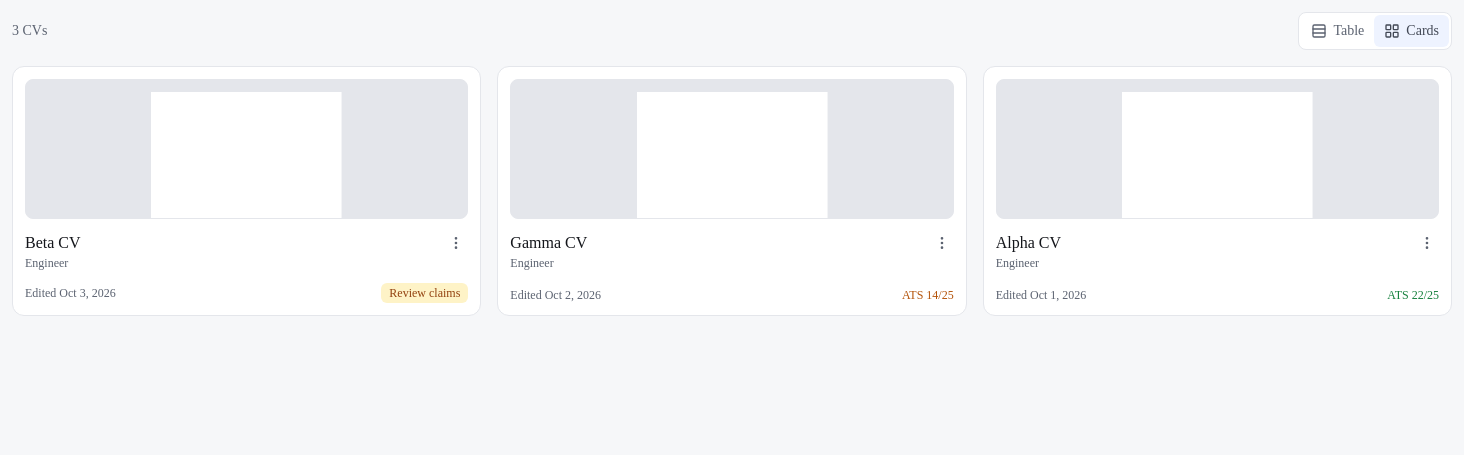
Scenario: CvLibrary › offers the same actions menu on cards
Click the button named "More actions for Gamma CV".
click(942, 243)  # box [926,227,958,259]
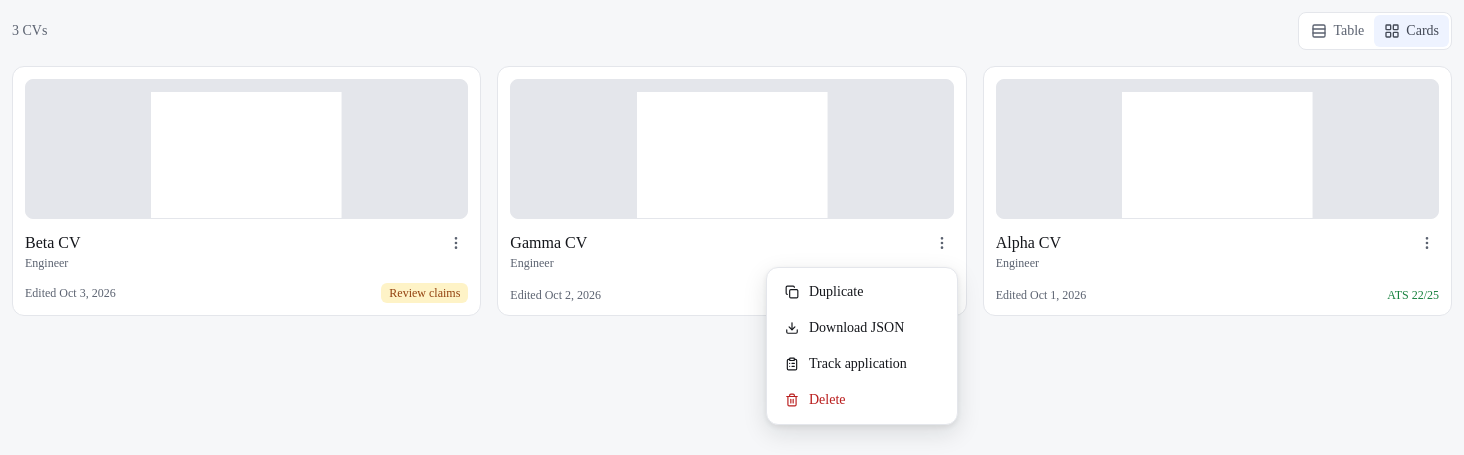
Click the menu item "Delete".
click(815, 400)  # box [785,392,846,407]
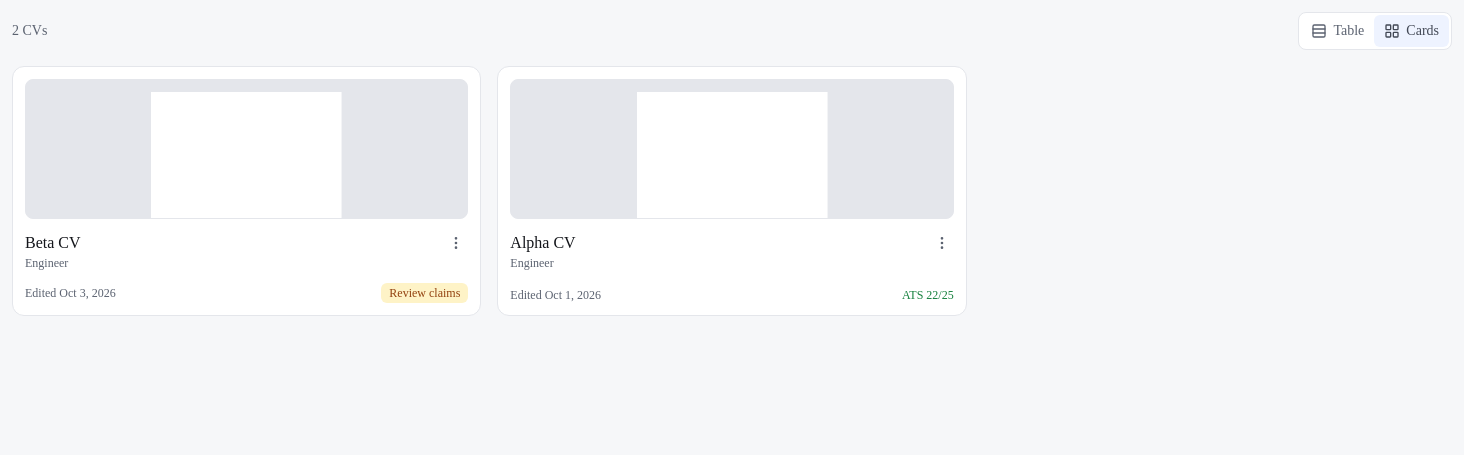
Result: the link "Gamma CV" is gone
